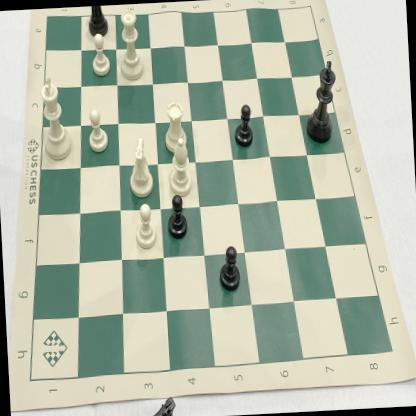bishop: (165, 132, 195, 202)
king: (36, 70, 76, 166), (300, 57, 342, 148)
knight: (124, 134, 157, 200)
pawn: (215, 241, 244, 295), (130, 200, 158, 254), (84, 104, 111, 156), (163, 191, 191, 241), (231, 100, 257, 152), (86, 31, 114, 79)
queen: (115, 3, 149, 84)
rook: (158, 95, 190, 157), (82, 5, 113, 43)
